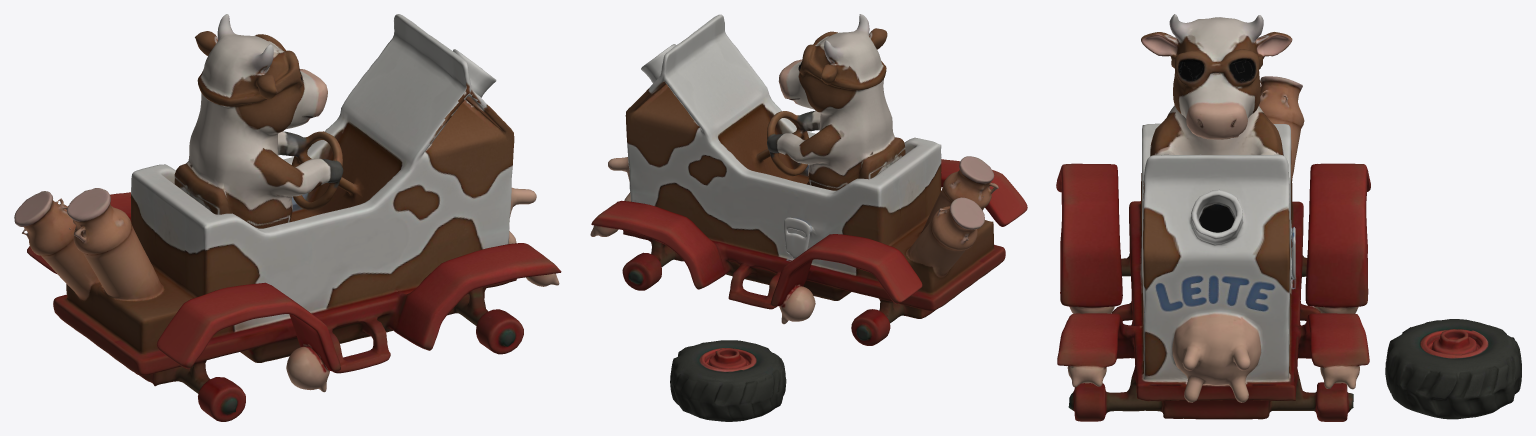
File: milk+cart+3d+model.fbx
The picture shows the model from 3 angles, left to right: view 1: azimuth 30°, elevation 25°; view 2: azimuth 150°, elevation 25°; view 3: azimuth 270°, elevation 25°; orthographic projection. The views are drawn at different scales.
Visible parts, largest first — view 1: tripo_node_1ff214e1; view 2: tripo_node_1ff214e1; view 3: tripo_node_1ff214e1.
Part boxes in pixels (box(x1,y1,x2,y2)): tripo_node_1ff214e1: box(14, 14, 561, 421); tripo_node_1ff214e1: box(590, 14, 1027, 421); tripo_node_1ff214e1: box(1056, 14, 1521, 421).
Bounding box in the file's own units: 0.9966 × 0.7599 × 0.8587.
Materials: 1 (1 with a texture image).
